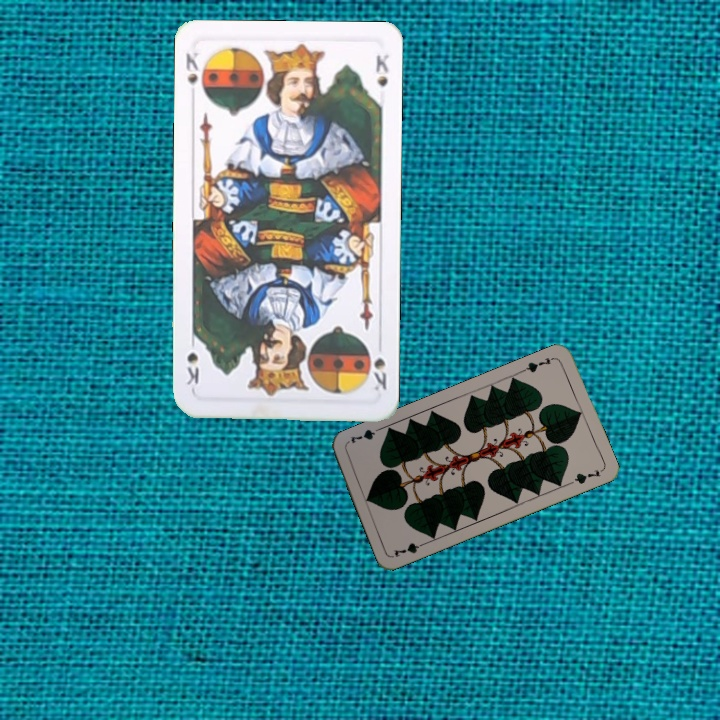G7: (389, 538, 429, 560), (519, 353, 558, 375)
SK: (182, 48, 201, 104), (370, 353, 389, 393)
